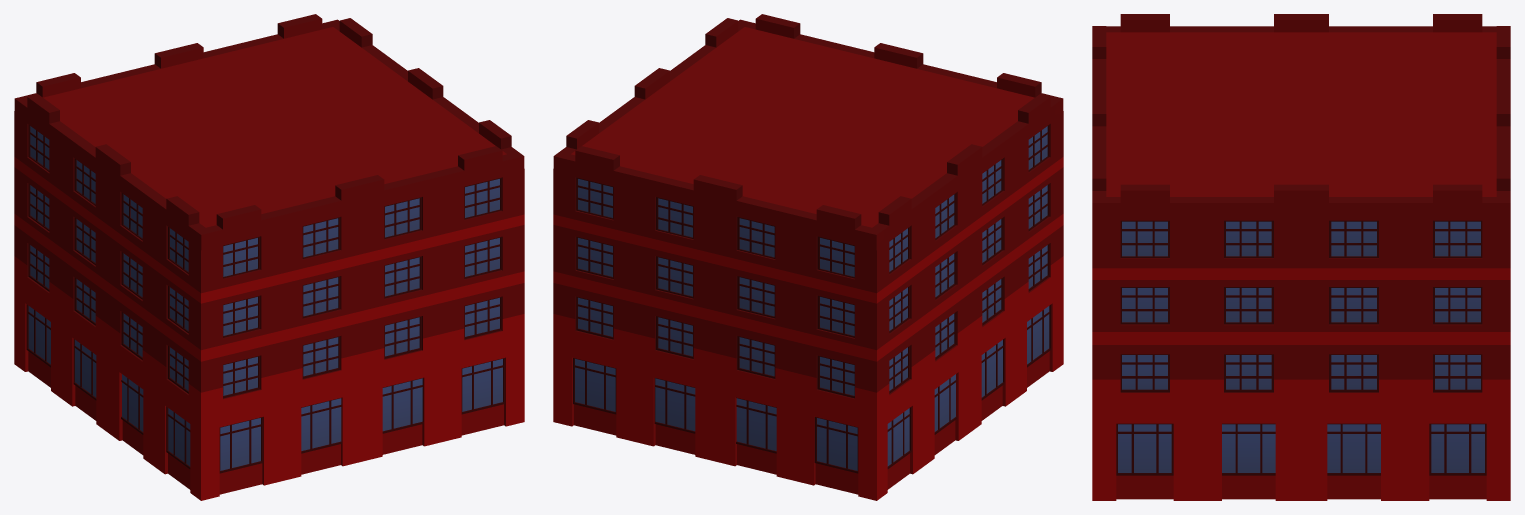
Rendered from buildings-residential-loft_v5.fbx.
3 renders of one model, left to right at view 1: azimuth 30°, elevation 25°; view 2: azimuth 150°, elevation 25°; view 3: azimuth 270°, elevation 25°, orthographic. The views are drawn at different scales.
Visible parts, largest first — view 1: Loft_v5_base, Loft_v5_windowRefl; view 2: Loft_v5_base, Loft_v5_windowRefl; view 3: Loft_v5_base, Loft_v5_windowRefl.
Boxes of the visible parts, x1=… form: Loft_v5_base: x1=14, y1=14, x2=524, y2=500; Loft_v5_windowRefl: x1=28, y1=126, x2=502, y2=470; Loft_v5_base: x1=553, y1=14, x2=1063, y2=500; Loft_v5_windowRefl: x1=575, y1=126, x2=1049, y2=470; Loft_v5_base: x1=1092, y1=14, x2=1510, y2=500; Loft_v5_windowRefl: x1=1118, y1=221, x2=1484, y2=472.
Size of the model in its own units: 22.17 by 18.13 by 22.17.
